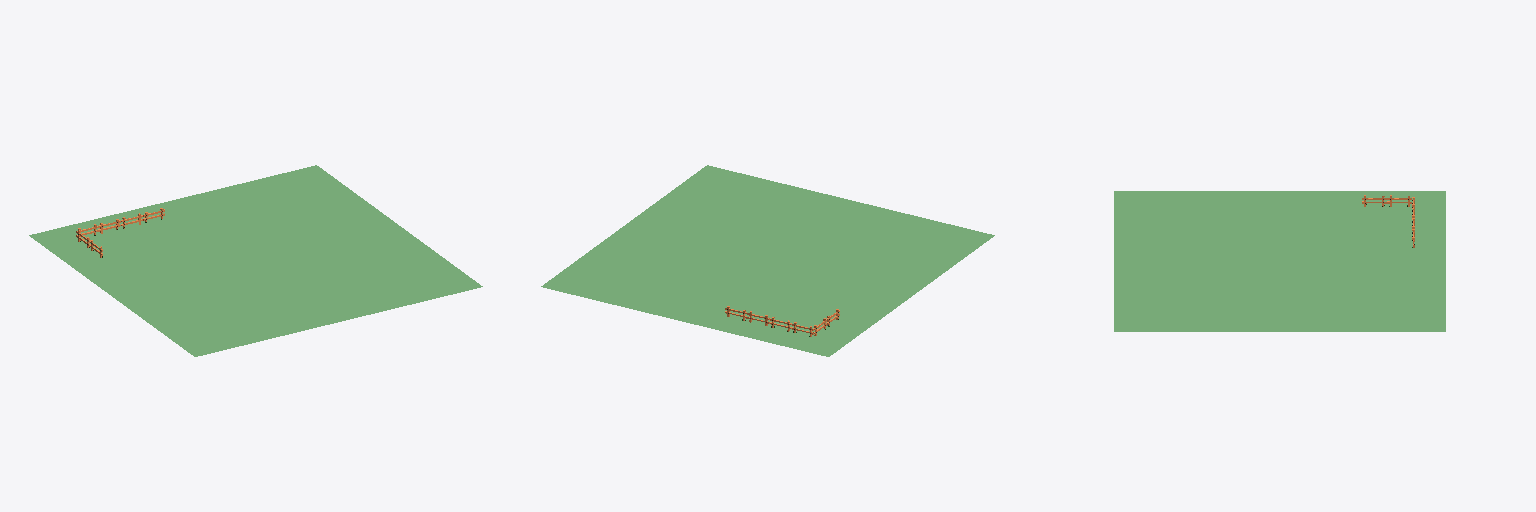
File: aframe.obj
3 renders of one model, left to right at view 1: azimuth 30°, elevation 25°; view 2: azimuth 150°, elevation 25°; view 3: azimuth 270°, elevation 25°, orthographic.
Visible parts, largest first — view 1: Plane; view 2: Plane; view 3: Plane.
Boxes of the visible parts, <box> form: Plane: <box>29,165,482,356</box>; Plane: <box>541,165,994,356</box>; Plane: <box>1114,191,1445,331</box>.
Bounding box in the file's own units: 100 × 3.46 × 100.